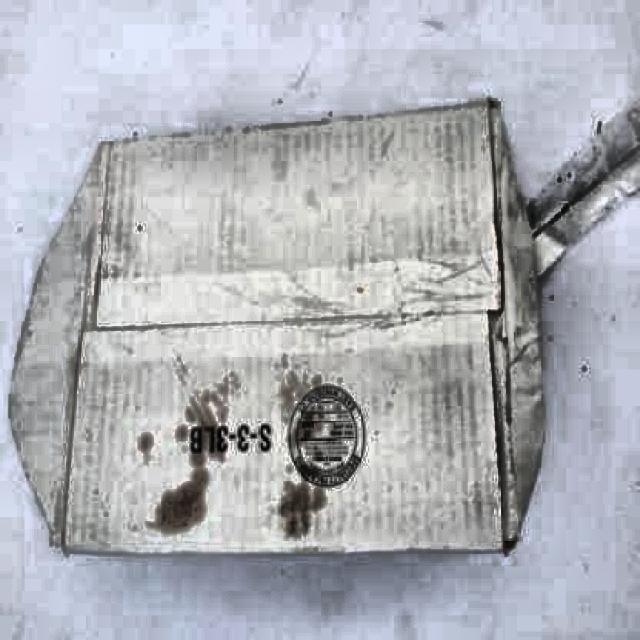Cardbox: (0, 70, 559, 570)
